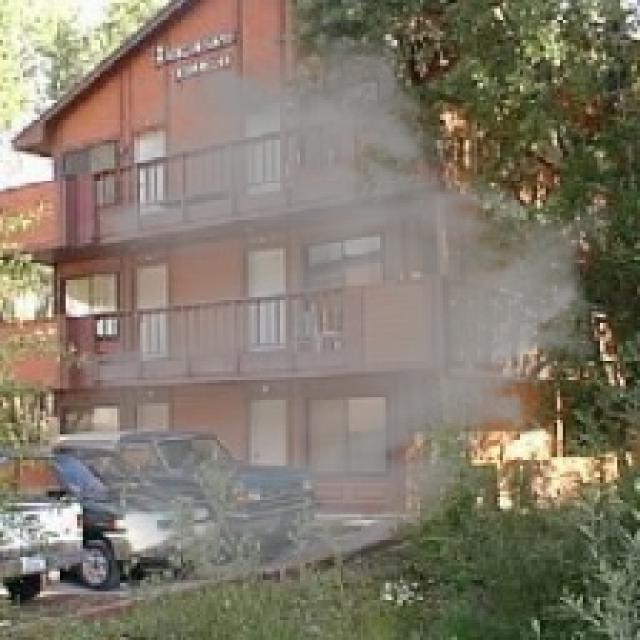Smoke: (51, 26, 620, 586)
